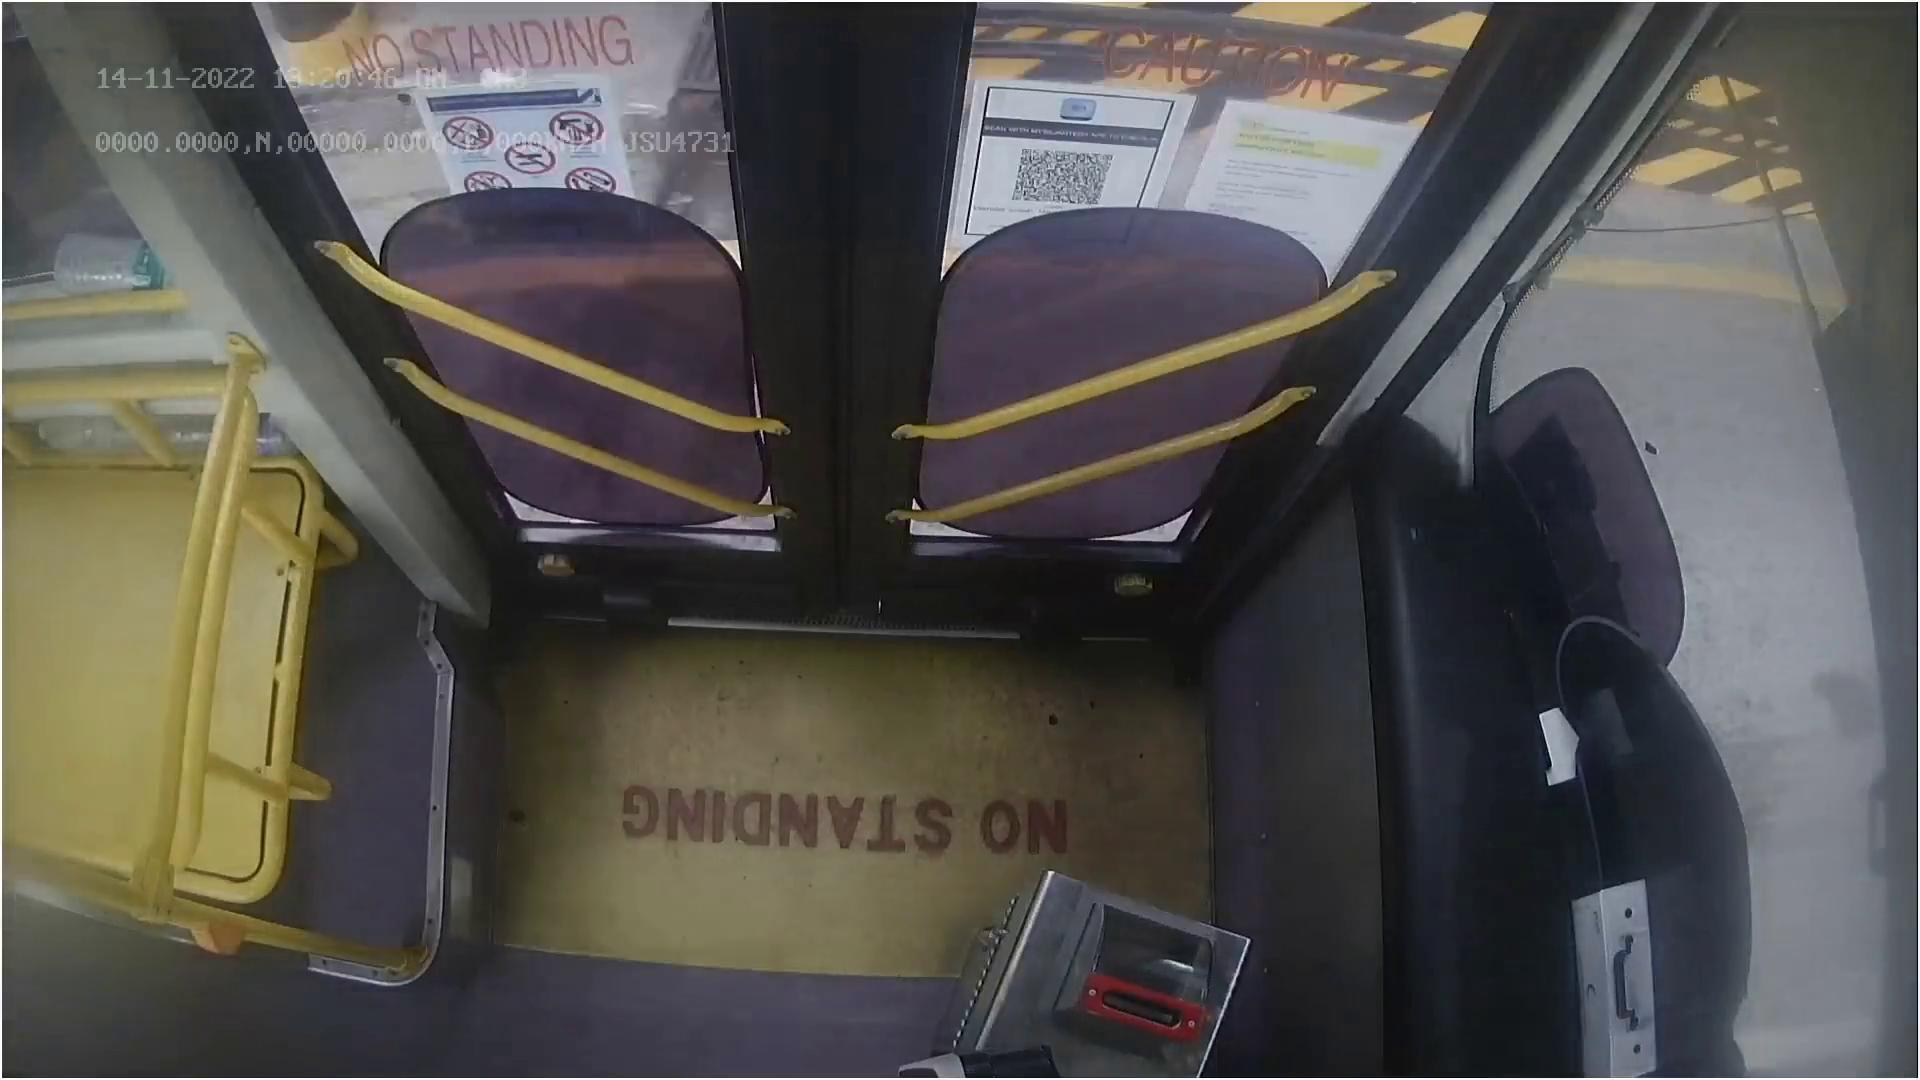close: (285, 0, 1465, 133)
